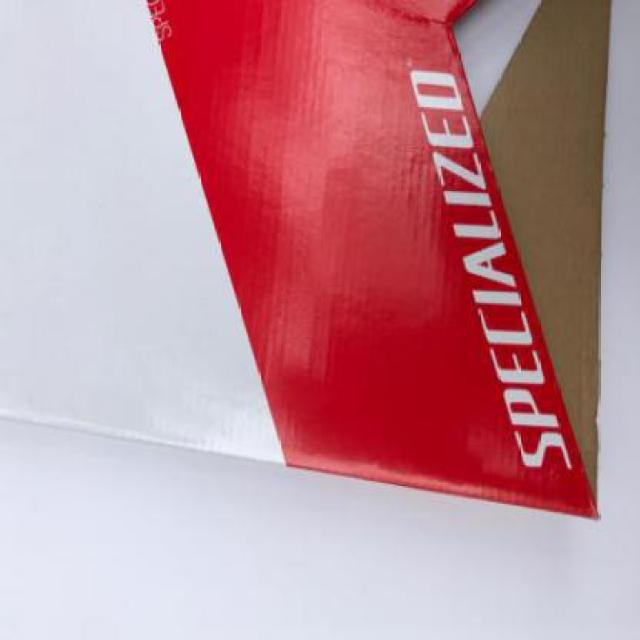box: (0, 0, 618, 536)
